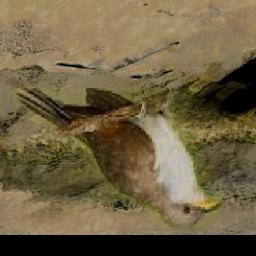Cuckoo: (15, 89, 223, 230)
